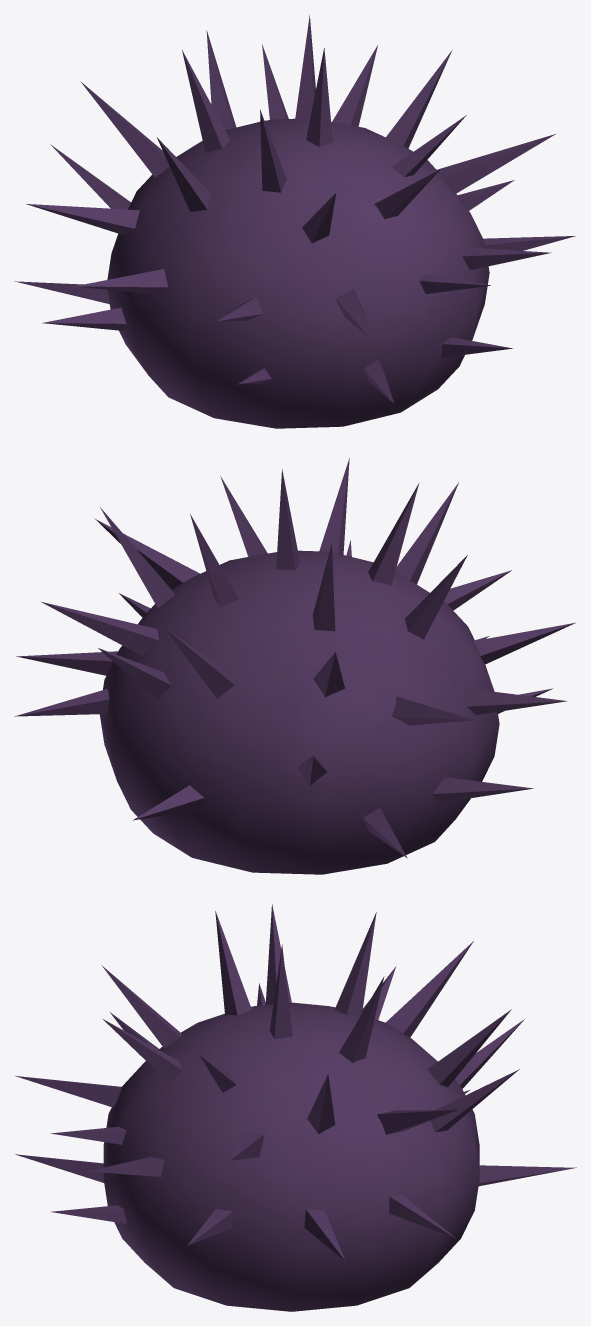
File: cact4.fbx
3 views of the same model, one above another, from view 1: azimuth 30°, elevation 25°; view 2: azimuth 150°, elevation 25°; view 3: azimuth 270°, elevation 25° (orthographic). The views are drawn at different scales.
Parts seen in each view (by area): view 1: pSphere45; view 2: pSphere45; view 3: pSphere45.
Boxes of the visible parts, bbox=[...] form: pSphere45: bbox=[14, 15, 575, 428]; pSphere45: bbox=[14, 458, 575, 874]; pSphere45: bbox=[15, 904, 576, 1311].
Bounding box in the file's own units: 2.49 × 1.55 × 2.51.
